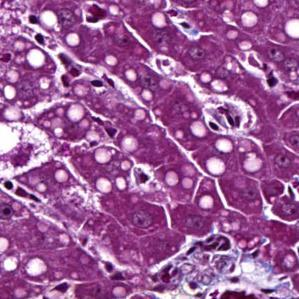ballooning: (2, 122, 53, 184)
